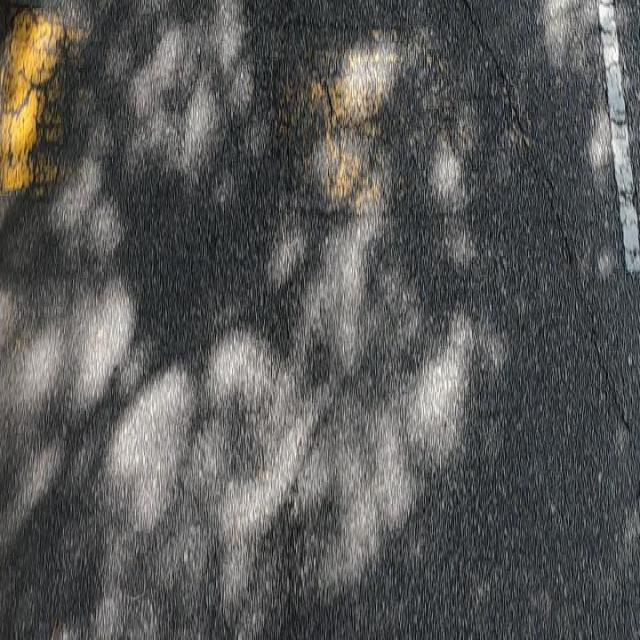cracks: (438, 0, 630, 436), (296, 49, 384, 203)
